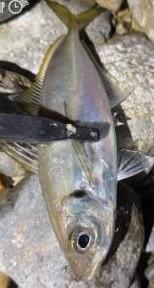fish: (0, 0, 153, 279)
